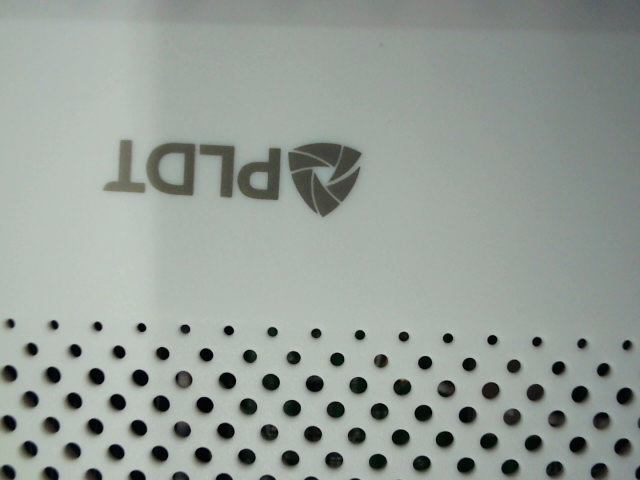BH_PLDT: (93, 124, 371, 229)
